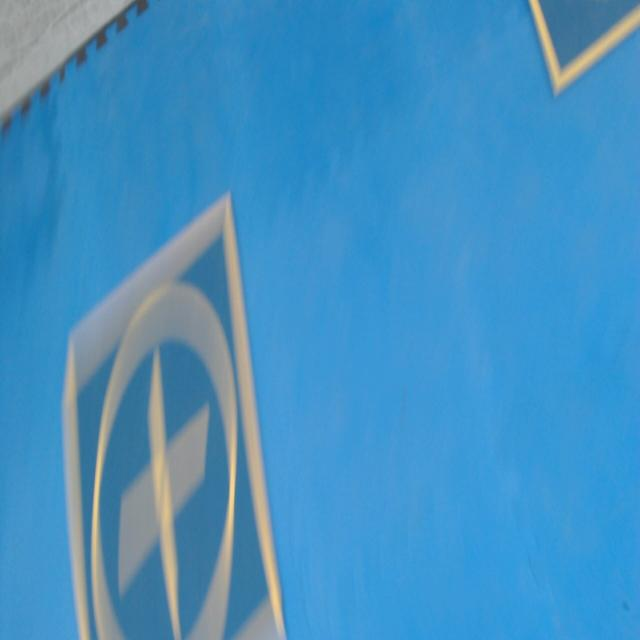base_pouso: (65, 191, 287, 639), (528, 0, 640, 102)
